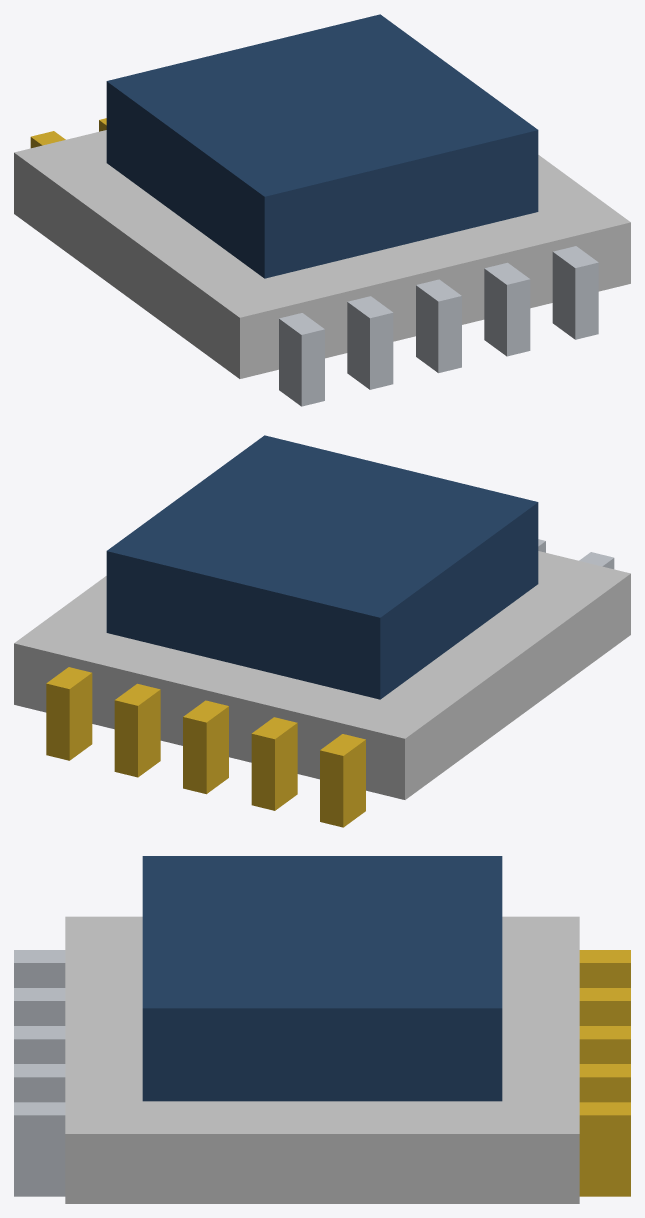
Rendered from speed_perk.obj.
The picture shows the model from 3 angles, top to bottom: view 1: azimuth 30°, elevation 25°; view 2: azimuth 150°, elevation 25°; view 3: azimuth 270°, elevation 25°; orthographic projection. The views are drawn at different scales.
Visible parts, largest first — view 1: speed_perk; view 2: speed_perk; view 3: speed_perk.
Part boxes in pixels (box(x1,y1,x2,y2)): speed_perk: box(14, 14, 630, 406); speed_perk: box(14, 435, 630, 827); speed_perk: box(14, 856, 630, 1203).
Bounding box in the file's own units: 0.2 × 0.08 × 0.24.
